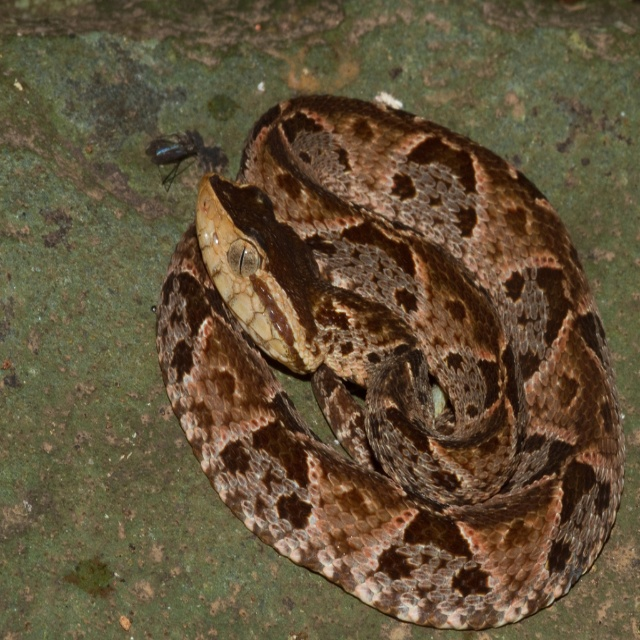Snake: (156, 93, 629, 631)
